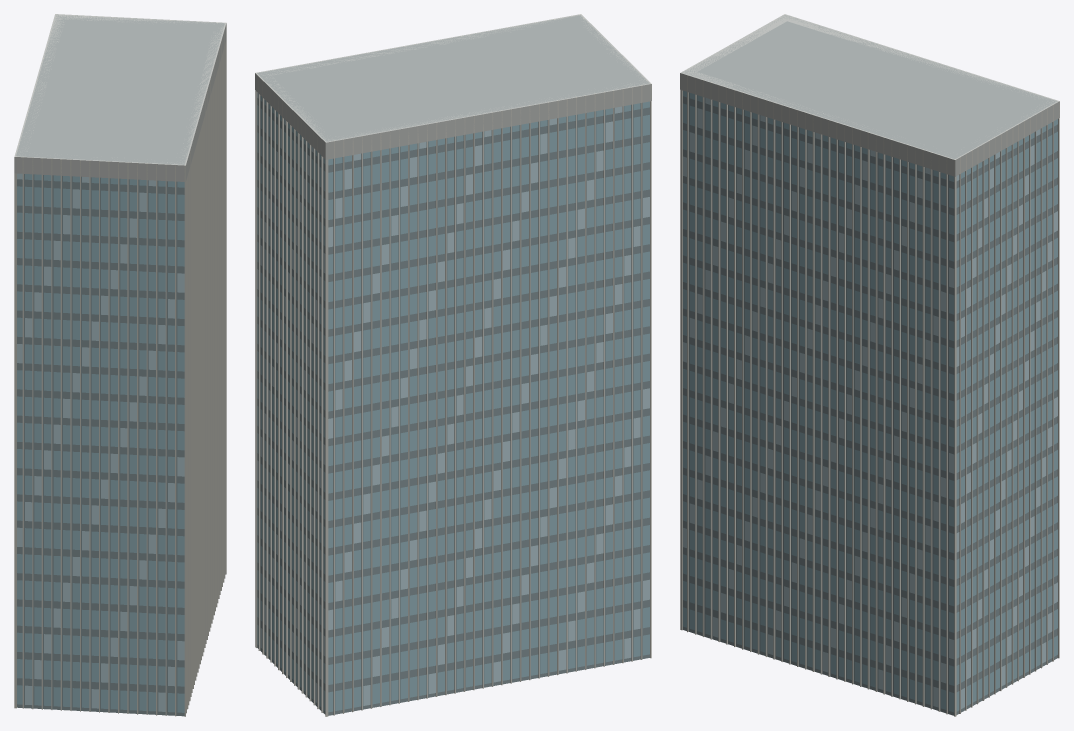
The model's file is civic-9e4ac373-6c29-4205-a082-3b1576c377cd.glb.
The picture shows the model from 3 angles, left to right: view 1: azimuth 30°, elevation 25°; view 2: azimuth 150°, elevation 25°; view 3: azimuth 270°, elevation 25°; orthographic projection. The views are drawn at different scales.
Parts seen in each view (by area): view 1: civic-9e4ac373-6c29-4205-a082-3b1576c377cd; view 2: civic-9e4ac373-6c29-4205-a082-3b1576c377cd; view 3: civic-9e4ac373-6c29-4205-a082-3b1576c377cd.
Boxes of the visible parts, x1=… form: civic-9e4ac373-6c29-4205-a082-3b1576c377cd: x1=14, y1=14, x2=226, y2=716; civic-9e4ac373-6c29-4205-a082-3b1576c377cd: x1=255, y1=14, x2=651, y2=716; civic-9e4ac373-6c29-4205-a082-3b1576c377cd: x1=680, y1=14, x2=1059, y2=716.
Bounding box in the file's own units: 56.28 × 100 × 61.79.
